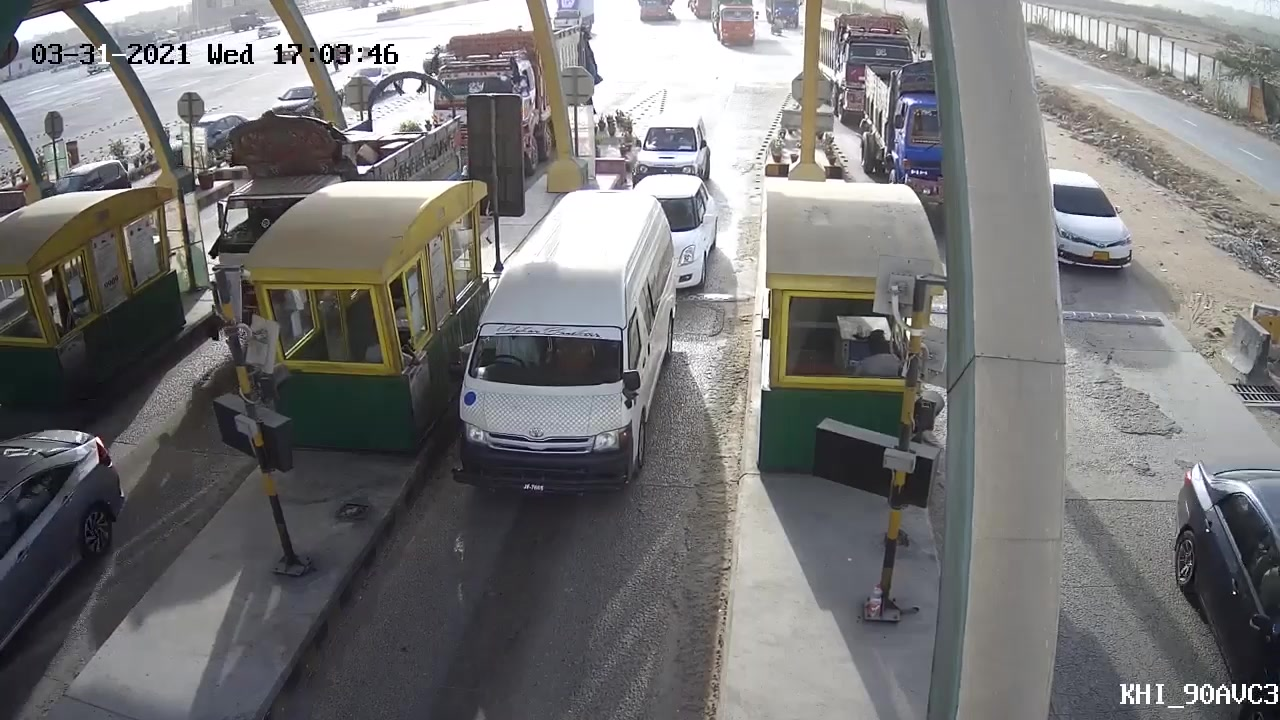F2: (458, 186, 691, 508)
